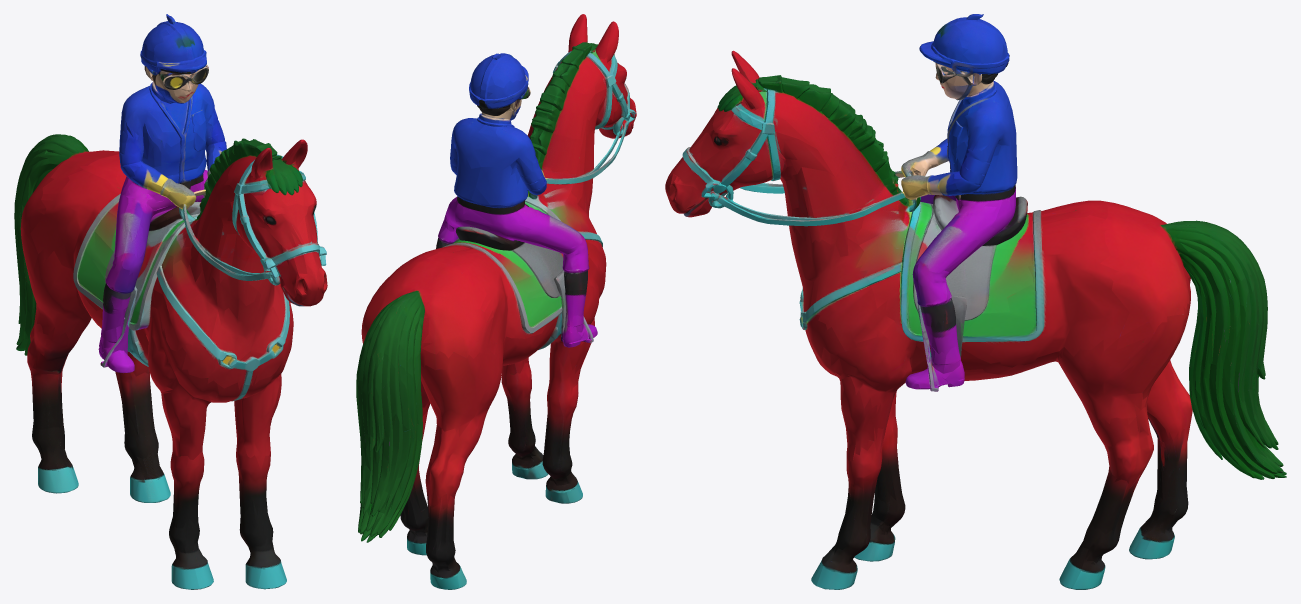
Rendered from meshy-esguio-ondas.glb.
3 views of the same model, side by side, from view 1: azimuth 30°, elevation 25°; view 2: azimuth 150°, elevation 25°; view 3: azimuth 270°, elevation 25° (orthographic). The views are drawn at different scales.
Bounding box in the file's own units: 0.6564 × 1.86 × 1.9.
1 material, 1 textured.
